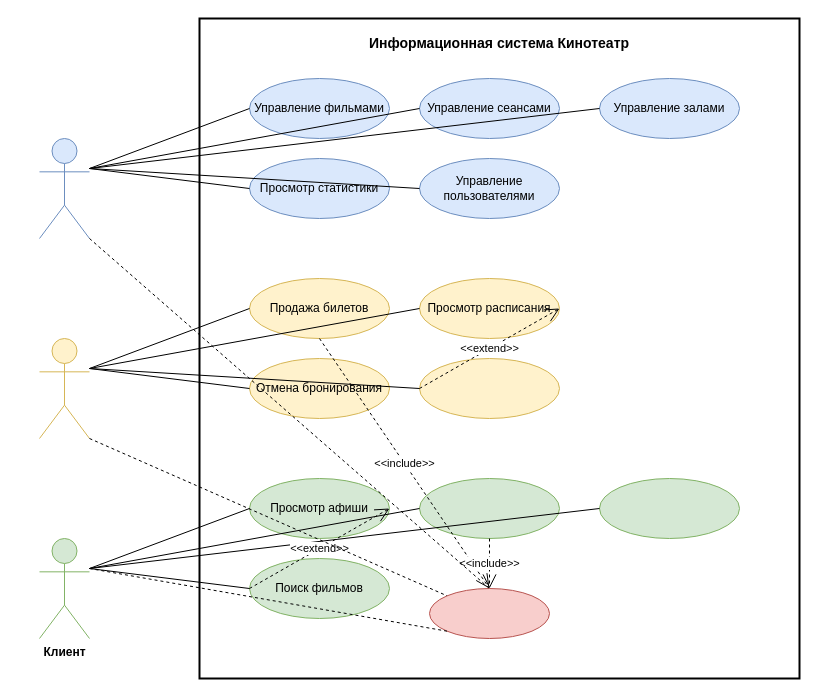
This 818x696 diagram has some shape labels left out. The centre of each missing label's shape, as x and y in pixels:
"Авторизация" goes at (489,613).
"Администратор" goes at (64,188).
"Бронирование билетов" goes at (489,508).
"Кассир" goes at (64,388).
"Поиск сеансов" goes at (489,388).
"Просмотр истории" goes at (669,508).
